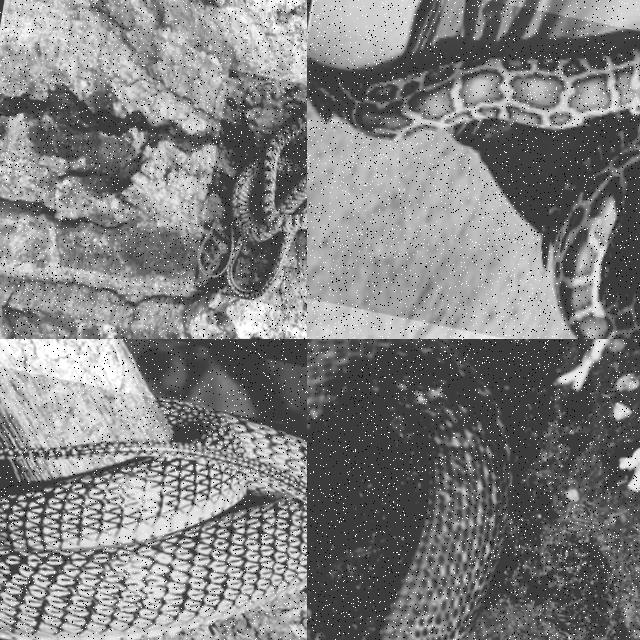Chrysopelea ornata: (0, 402, 306, 639), (196, 108, 306, 298)
Naja kaouthia: (307, 339, 512, 639)
Python bivittatus: (307, 50, 639, 338)
snake: (307, 50, 639, 338), (0, 402, 306, 639), (307, 339, 512, 639), (196, 108, 306, 298)
